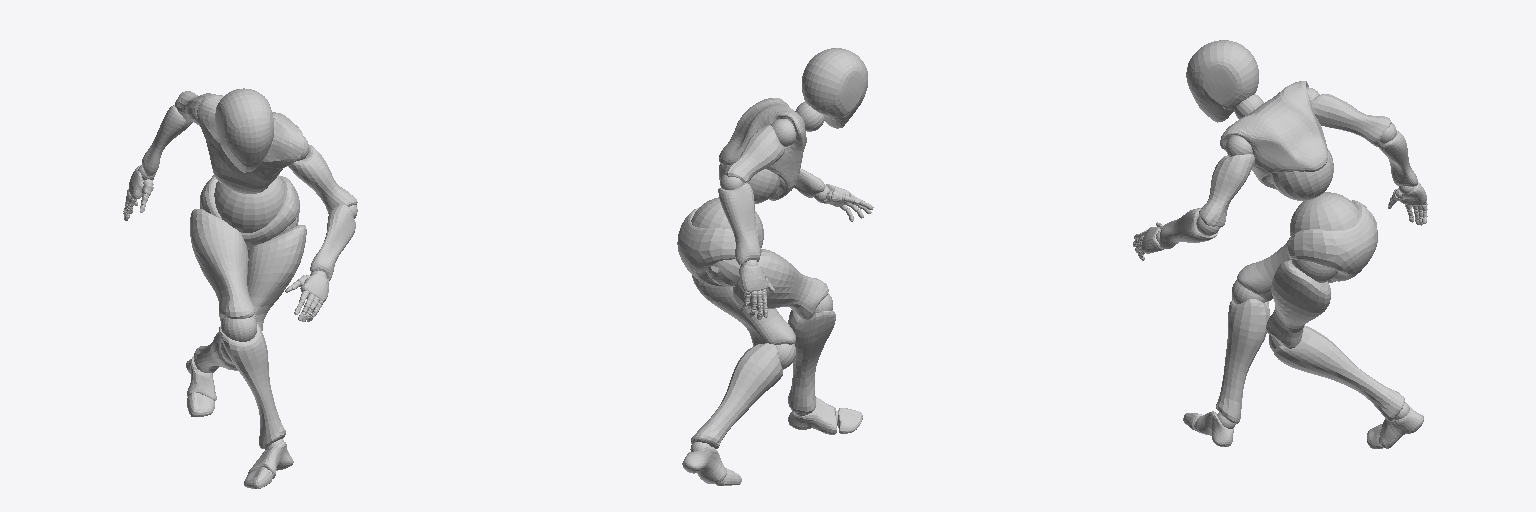
3 renders of one model, left to right at view 1: azimuth 30°, elevation 25°; view 2: azimuth 150°, elevation 25°; view 3: azimuth 270°, elevation 25°, orthographic.
Parts seen in each view (by area): view 1: Beta_Surface, Beta_Joints; view 2: Beta_Surface, Beta_Joints; view 3: Beta_Surface, Beta_Joints.
Boxes of the visible parts, <box> form: Beta_Surface: <box>123,88,357,488</box>; Beta_Joints: <box>123,100,357,478</box>; Beta_Surface: <box>677,48,873,485</box>; Beta_Joints: <box>690,102,868,485</box>; Beta_Surface: <box>1133,40,1427,448</box>; Beta_Joints: <box>1133,87,1426,432</box>.
Size of the model in its own units: 0.5061 by 1.43 by 0.9865.